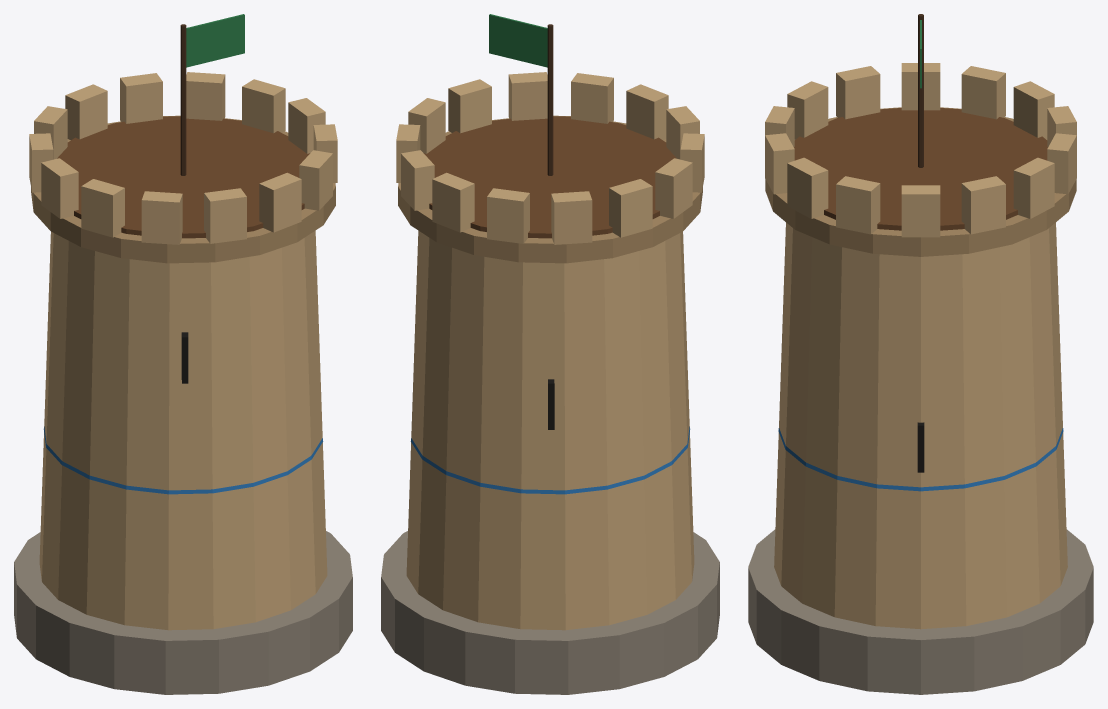
The model's file is tower.glb.
The picture shows the model from 3 angles, left to right: view 1: azimuth 30°, elevation 25°; view 2: azimuth 150°, elevation 25°; view 3: azimuth 270°, elevation 25°; orthographic projection.
Parts seen in each view (by area): view 1: Tower; view 2: Tower; view 3: Tower.
Part boxes in pixels (bbox=[...]): Tower: bbox=[14, 14, 352, 694]; Tower: bbox=[381, 14, 719, 694]; Tower: bbox=[748, 14, 1093, 694].
Bounding box in the file's own units: 8 × 15.5 × 8.
